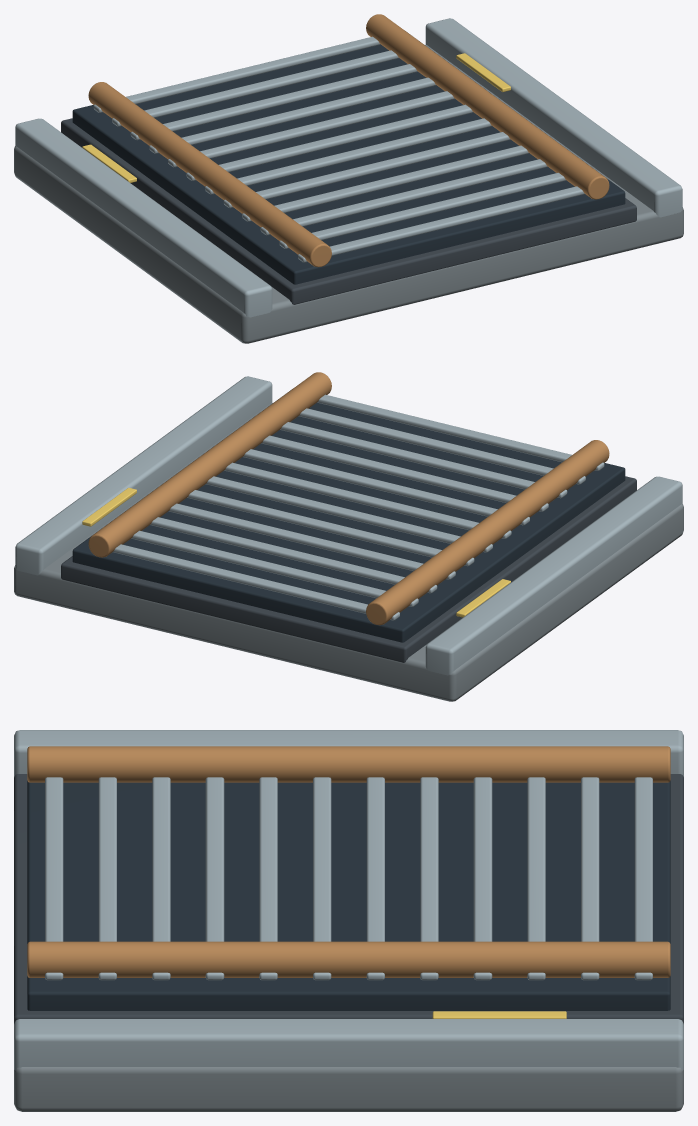
File: 15_road_steel.glb
3 renders of one model, top to bottom at view 1: azimuth 30°, elevation 25°; view 2: azimuth 150°, elevation 25°; view 3: azimuth 270°, elevation 25°, orthographic. The views are drawn at different scales.
Visible parts, largest first — view 1: Curb, Deck, Foundation, Conduit, Road surface, Lane light; view 2: Curb, Deck, Foundation, Conduit, Road surface, Lane light; view 3: Deck, Curb, Conduit, Foundation, Road surface, Lane light.
Part boxes in pixels (left/top/right/bottom): Curb: left=15, top=18, right=682, bottom=317; Deck: left=72, top=32, right=625, bottom=284; Foundation: left=14, top=45, right=683, bottom=343; Conduit: left=88, top=14, right=609, bottom=267; Road surface: left=61, top=118, right=636, bottom=304; Lane light: left=82, top=53, right=510, bottom=182; Curb: left=15, top=376, right=682, bottom=675; Deck: left=72, top=390, right=625, bottom=642; Foundation: left=14, top=403, right=683, bottom=701; Conduit: left=88, top=372, right=609, bottom=625; Road surface: left=61, top=476, right=636, bottom=662; Lane light: left=82, top=487, right=510, bottom=617; Deck: left=27, top=780, right=670, bottom=1010; Curb: left=14, top=730, right=683, bottom=1070; Conduit: left=27, top=746, right=670, bottom=977; Foundation: left=14, top=1067, right=683, bottom=1111; Road surface: left=14, top=774, right=683, bottom=1023; Lane light: left=432, top=1011, right=566, bottom=1018.
Size of the model in its own units: 2.2 by 0.375 by 2.
